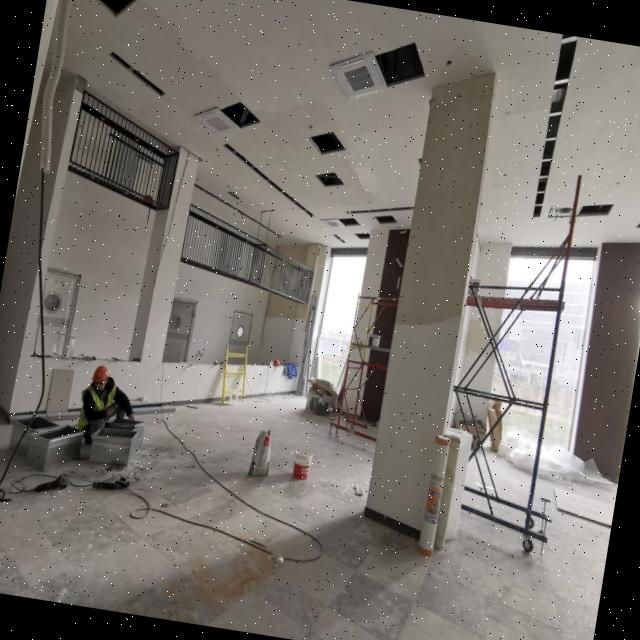Helmet: (92, 366, 112, 389), (273, 359, 282, 368)
Jacket: (82, 384, 118, 431)
